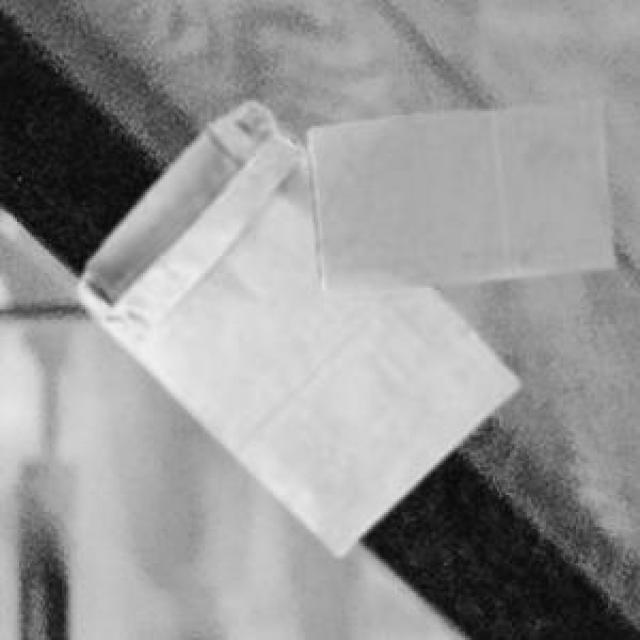paper: (75, 98, 514, 550), (305, 97, 610, 290)
